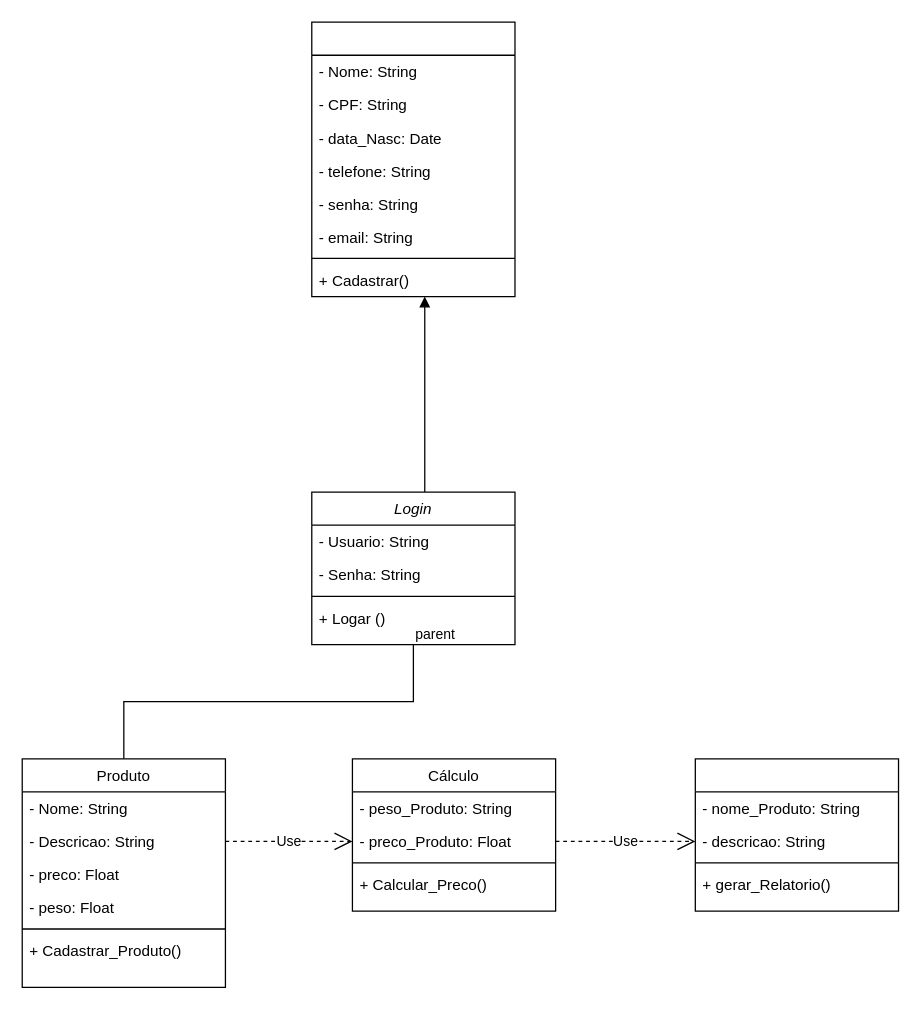
Some shapes in this 921 by 1010 pixel diagram are drawn without their labels. The box of each missing label's shape, as (x1, y1, x2, y2) in pixels:
Cadastro: (311, 21, 515, 297)
Relatório: (694, 758, 899, 911)
